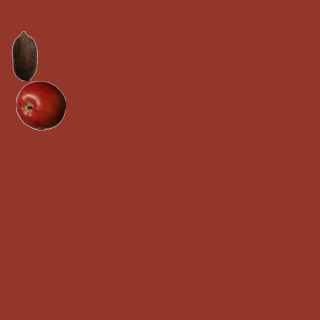Apple Braeburn: (15, 80, 65, 130)
Nut Pecan: (0, 30, 49, 80)
